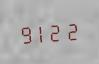nine: (18, 22, 32, 45)
one: (33, 21, 47, 44)
two: (48, 20, 62, 43), (63, 19, 77, 42)
